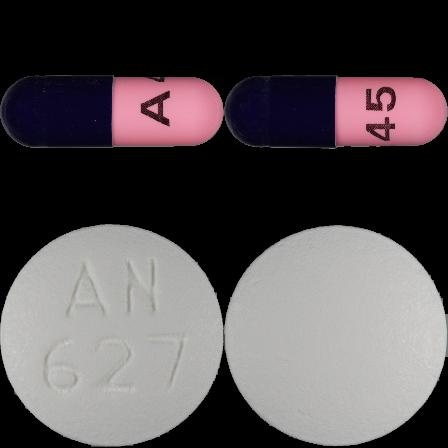10544-007: (0, 0, 224, 224)
